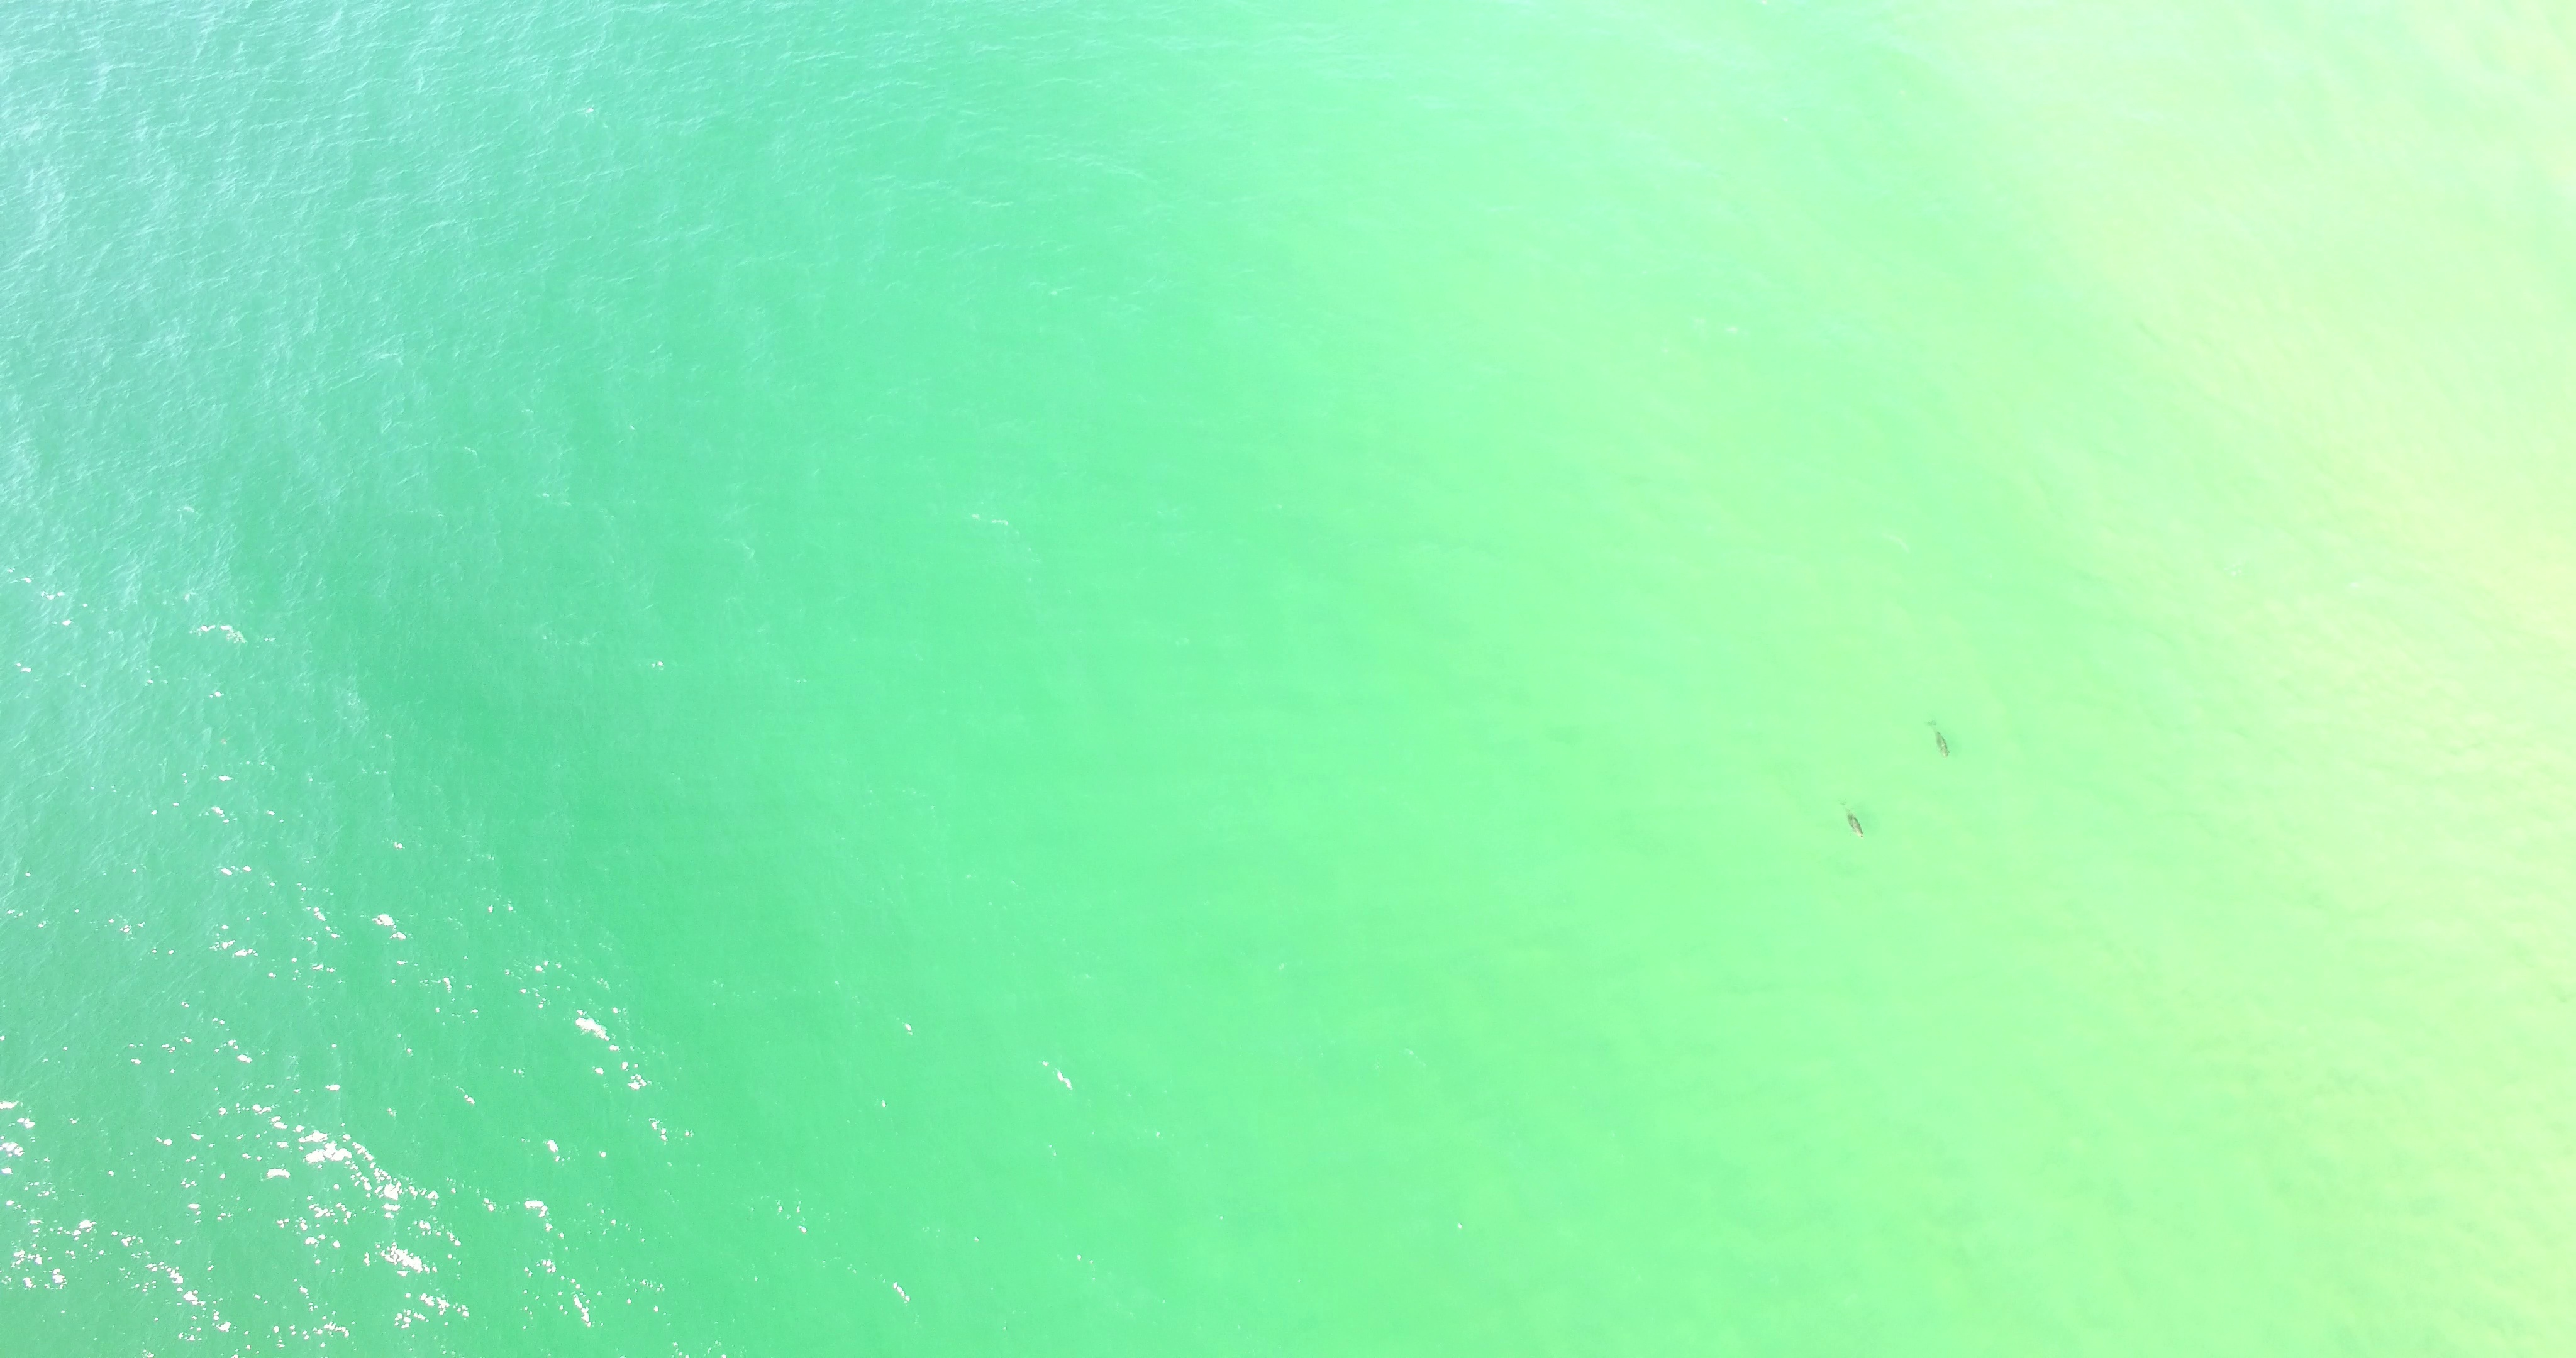dolphin: (1837, 801, 1867, 842), (1927, 719, 1954, 760)
